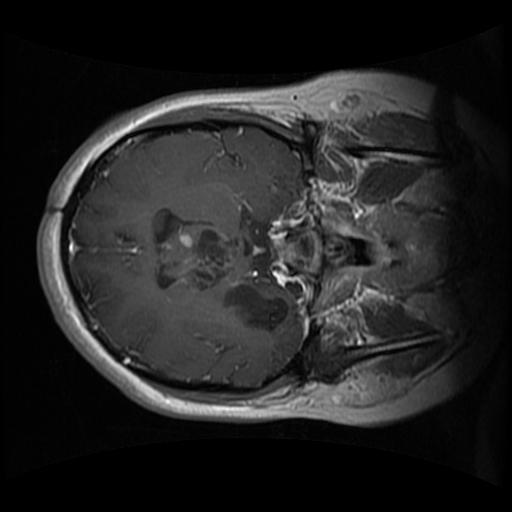glioma: (148, 200, 289, 338)
